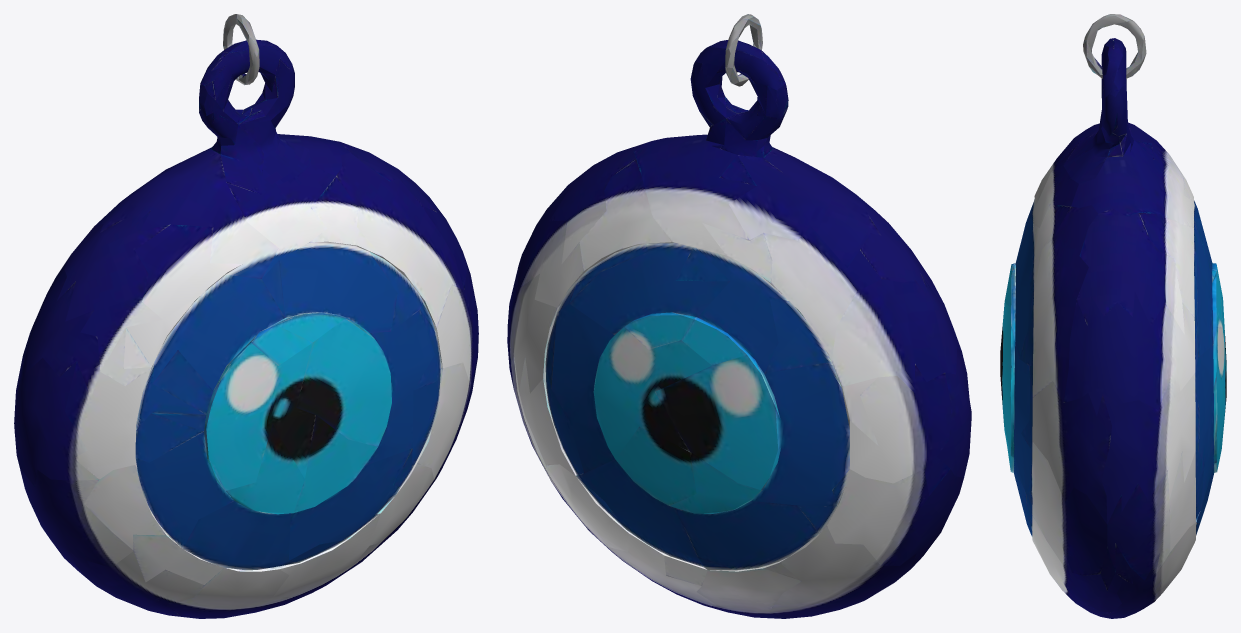
File: nazar.glb
The picture shows the model from 3 angles, left to right: view 1: azimuth 30°, elevation 25°; view 2: azimuth 150°, elevation 25°; view 3: azimuth 270°, elevation 25°; orthographic projection. The views are drawn at different scales.
Bounding box in the file's own units: 1.51 × 1.9 × 0.6756.
1 material, 1 textured.
